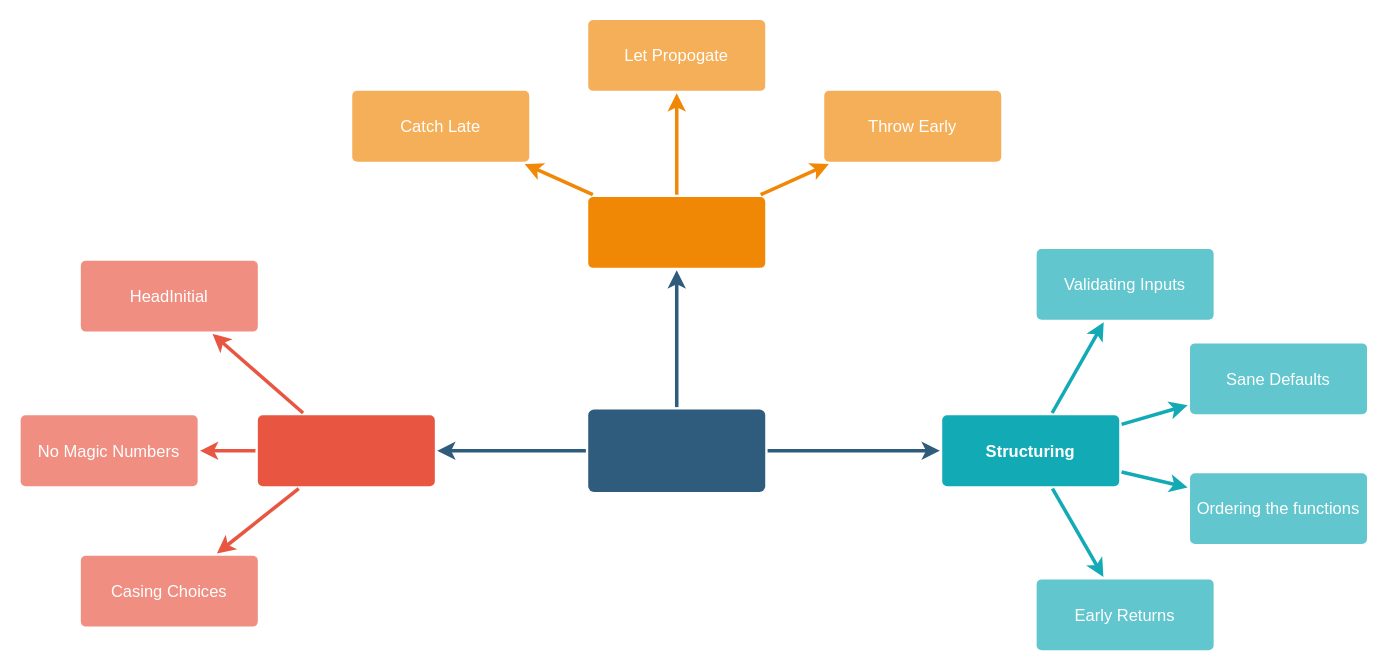
Some shapes in this 1386 by 670 pixel diagram are drawn without their labels. Each missing label, with the centre of its shape:
"Exception Handling" belongs at (x=676, y=231).
"Most Important Things First" belongs at (x=676, y=450).
"Naming" belongs at (x=345, y=450).
